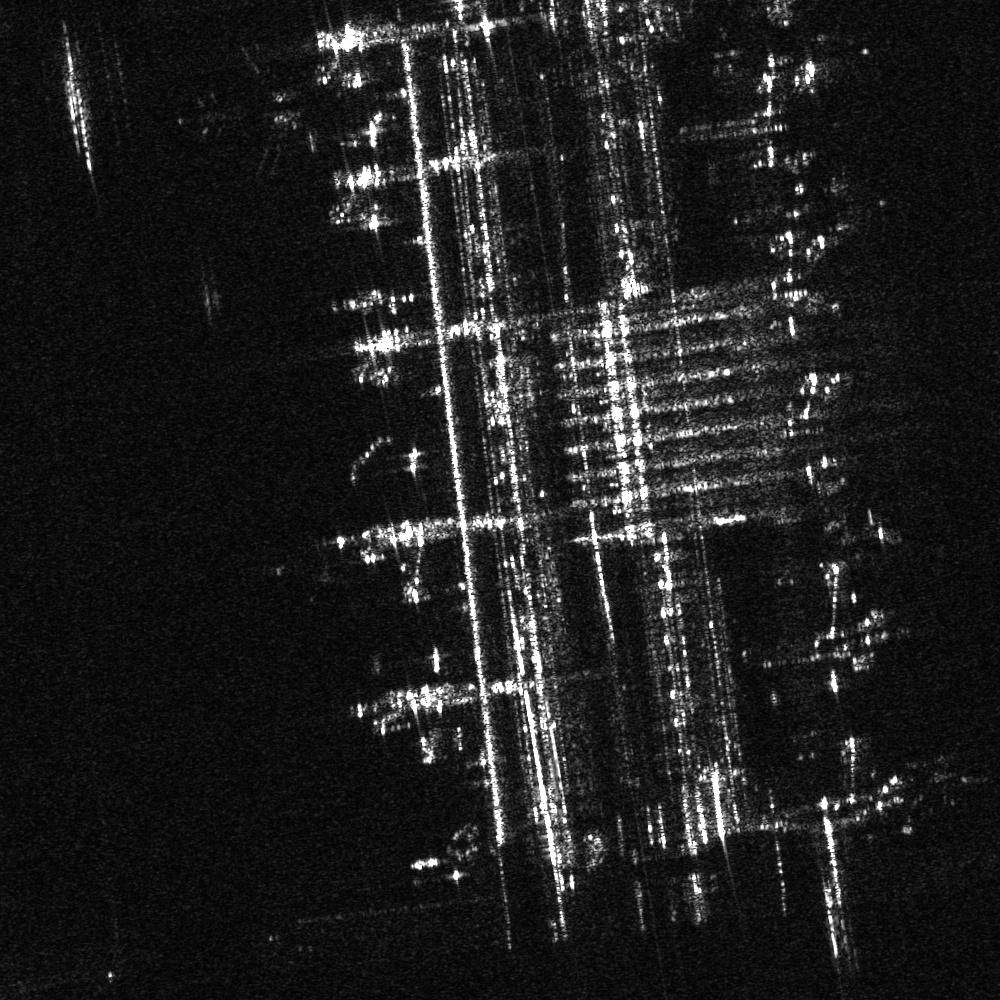Boeing737: (902, 750, 967, 808)
other: (175, 43, 317, 191)
